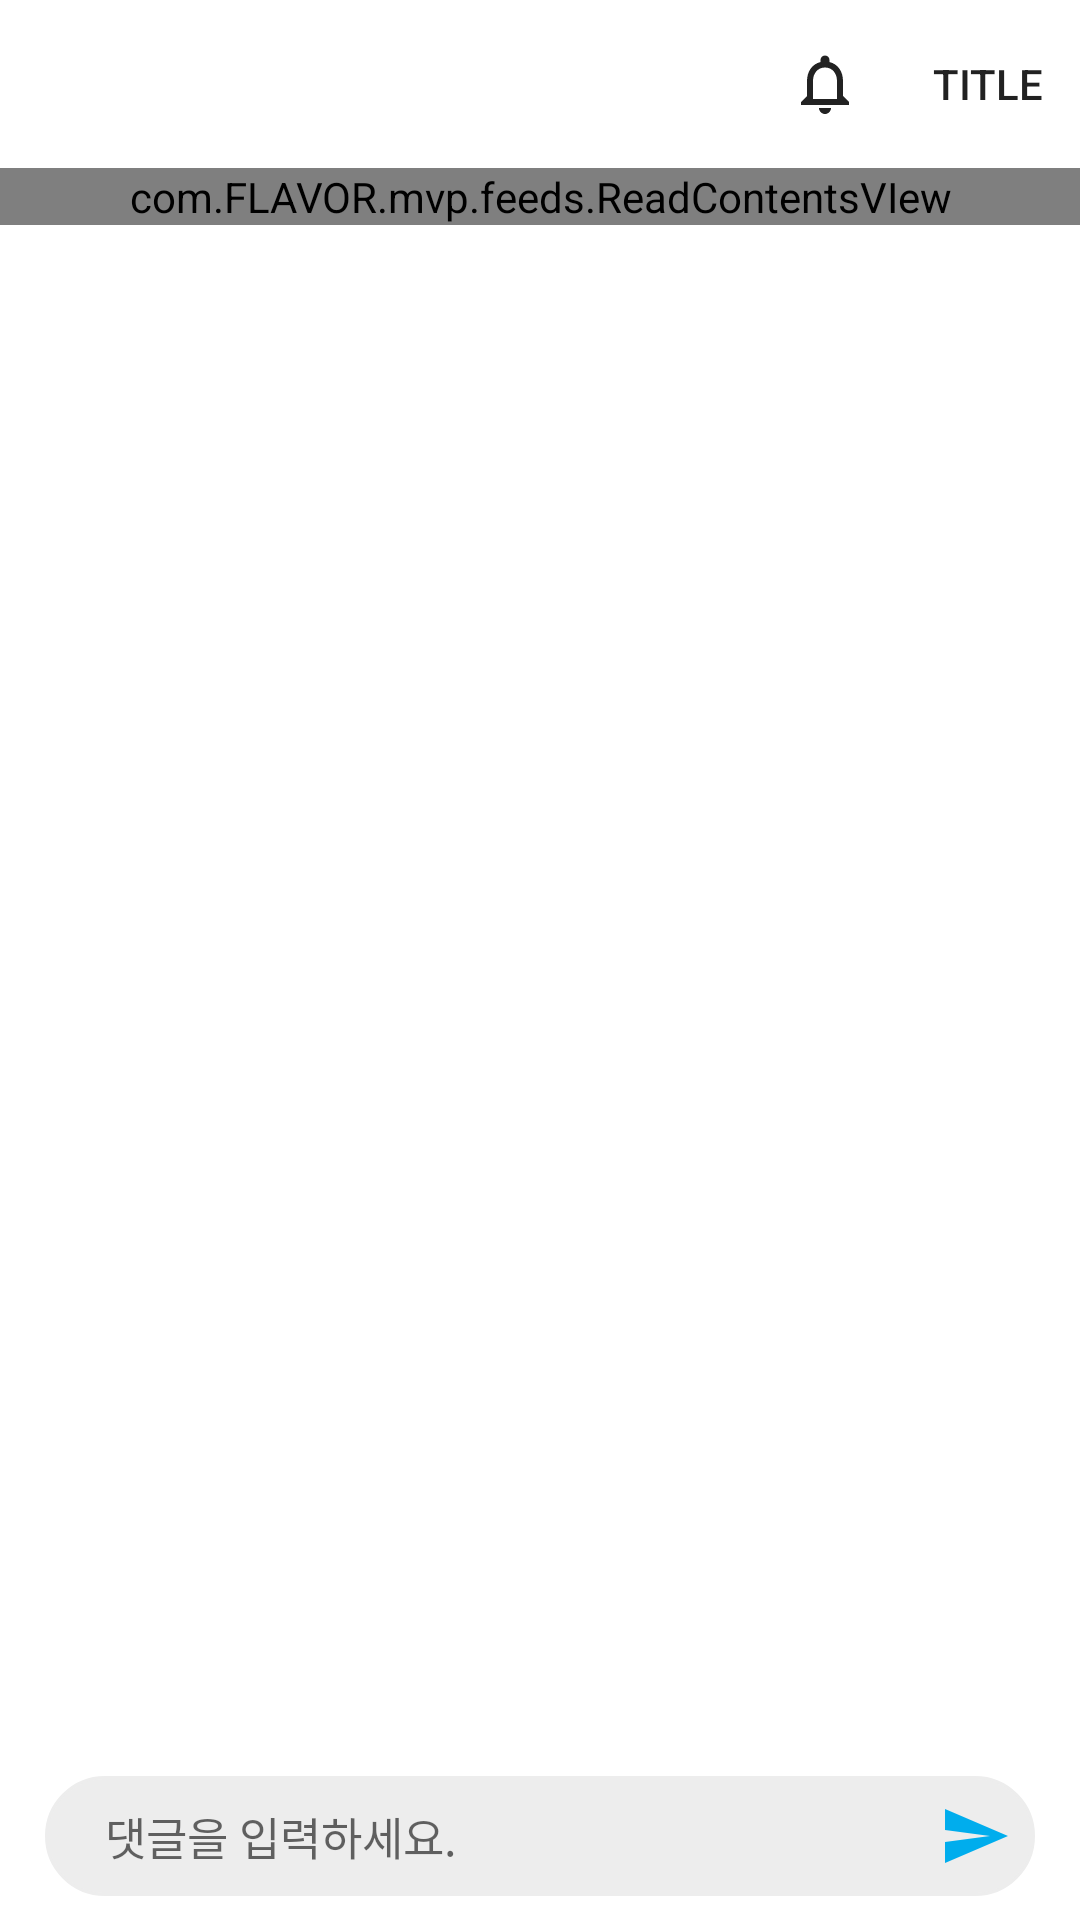

Icon bounding boxes for this 1080 × 1920 phone screenshot, format (x1, y1, x2, y2):
send: (945, 1809, 1008, 1863)
